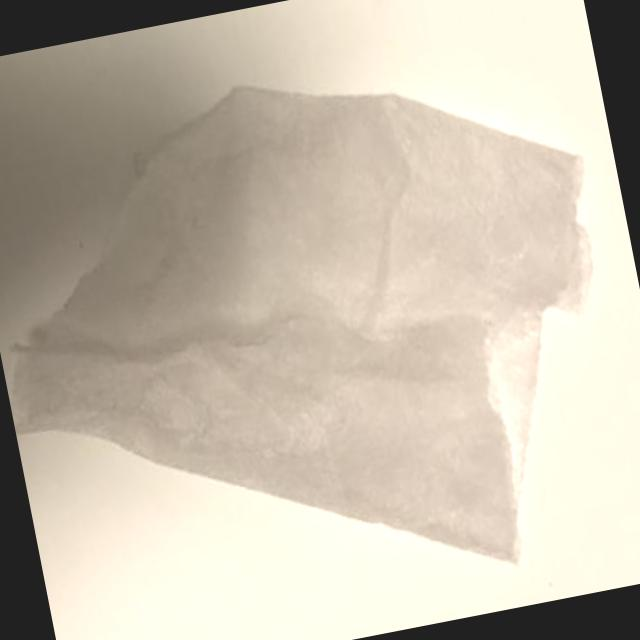giay: (12, 87, 589, 561)
